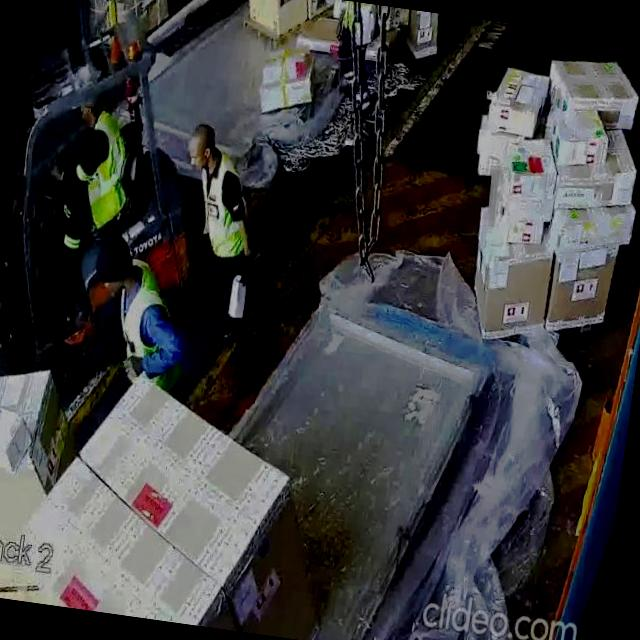Box: (466, 238, 557, 332), (546, 55, 640, 122), (544, 248, 616, 335), (496, 138, 562, 204), (486, 62, 544, 134), (255, 55, 318, 114), (564, 168, 640, 214), (559, 207, 635, 250), (554, 108, 606, 160)
